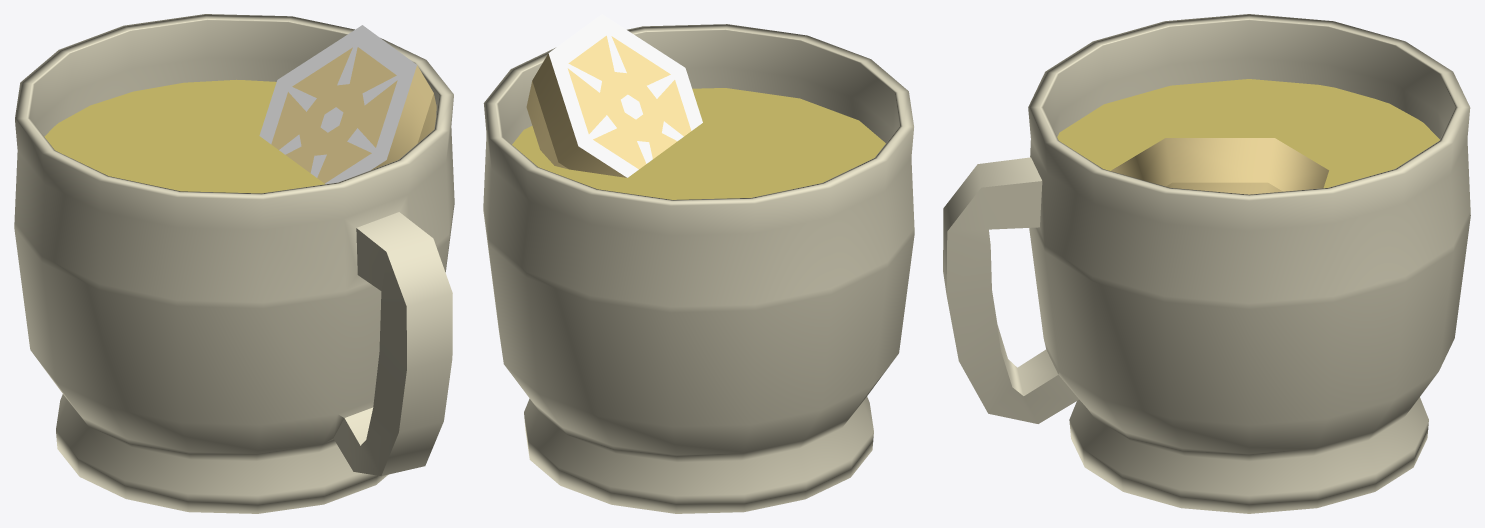
Rendered from drink9_sour.fbx.
3 renders of one model, left to right at view 1: azimuth 30°, elevation 25°; view 2: azimuth 150°, elevation 25°; view 3: azimuth 270°, elevation 25°, orthographic. The views are drawn at different scales.
Visible parts, largest first — view 1: nurbsToPoly1, pDisc1, lemonHalf; view 2: nurbsToPoly1, pDisc1, lemonHalf; view 3: nurbsToPoly1, pDisc1, lemonHalf.
Part boxes in pixels (x1,y1,x2,y2): nurbsToPoly1: (14,14,454,513); pDisc1: (44,79,324,193); lemonHalf: (259,25,436,184); nurbsToPoly1: (483,24,914,513); pDisc1: (512,88,885,199); lemonHalf: (526,14,702,177); nurbsToPoly1: (943,14,1470,513); pDisc1: (1057,79,1439,188); lemonHalf: (1111,138,1328,194).
Size of the model in its own units: 30.65 by 28.17 by 36.48.
